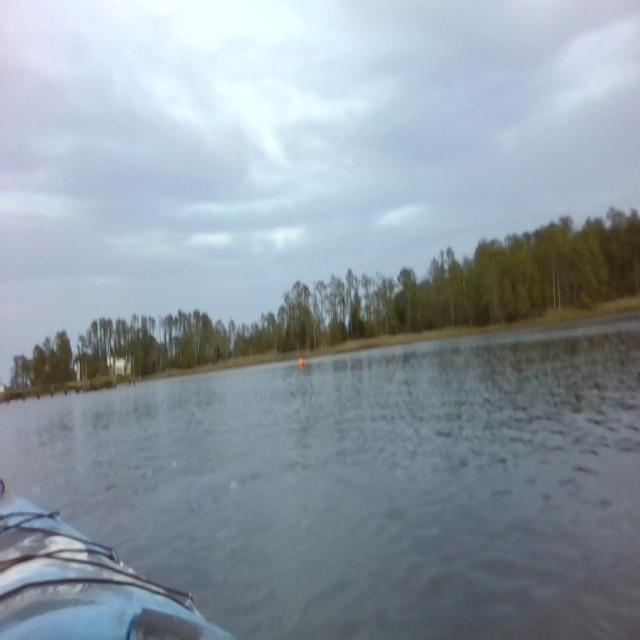Buoy: (298, 357, 306, 371)
